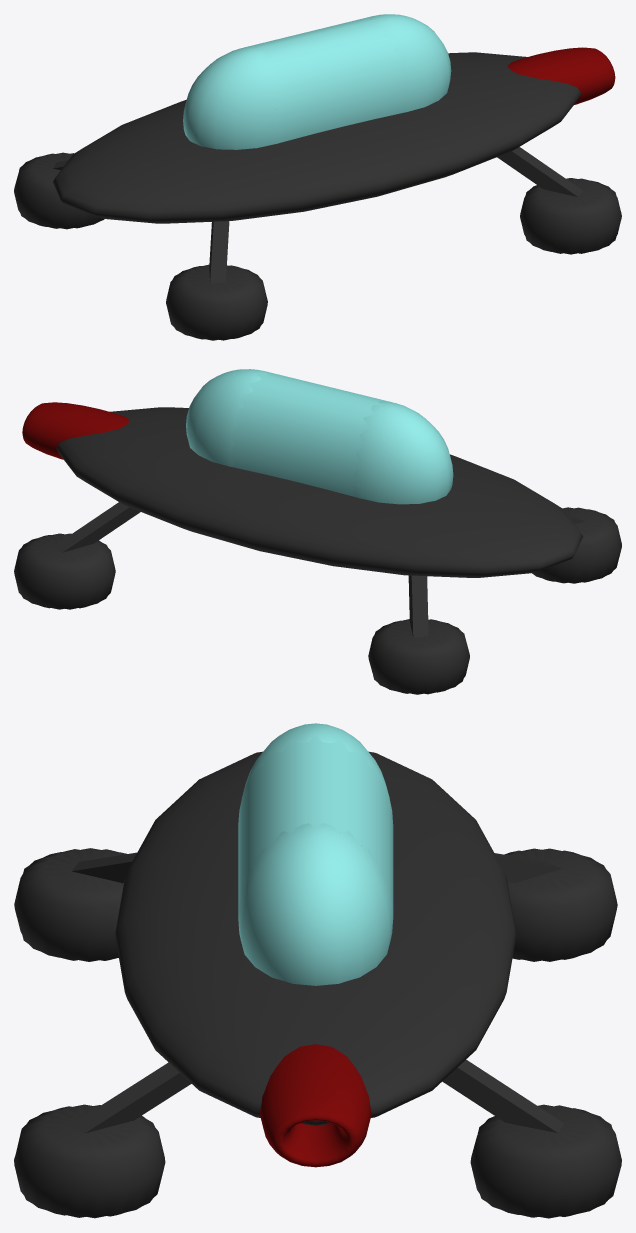
Rendered from HoverCar1.fbx.
The picture shows the model from 3 angles, top to bottom: view 1: azimuth 30°, elevation 25°; view 2: azimuth 150°, elevation 25°; view 3: azimuth 270°, elevation 25°; orthographic projection. The views are drawn at different scales.
Visible parts, largest first — view 1: pCube6; view 2: pCube6; view 3: pCube6.
Part boxes in pixels (x1=…): pCube6: x1=14, y1=14, x2=621, y2=340; pCube6: x1=14, y1=369, x2=621, y2=694; pCube6: x1=14, y1=723, x2=621, y2=1218.
Bounding box in the file's own units: 24.63 × 8.4 × 16.13.
